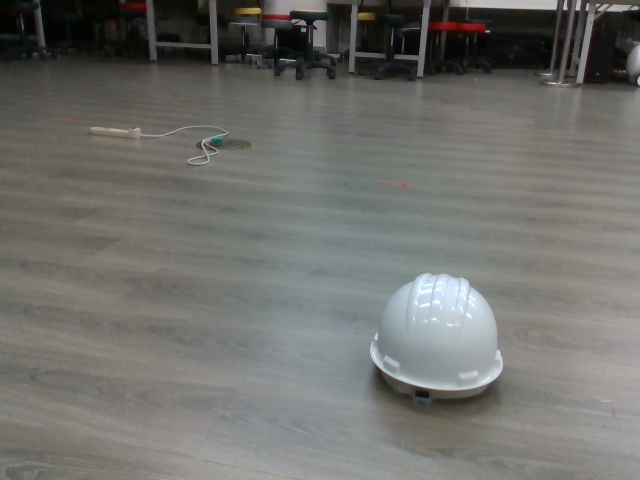helmet: (368, 269, 509, 408)
